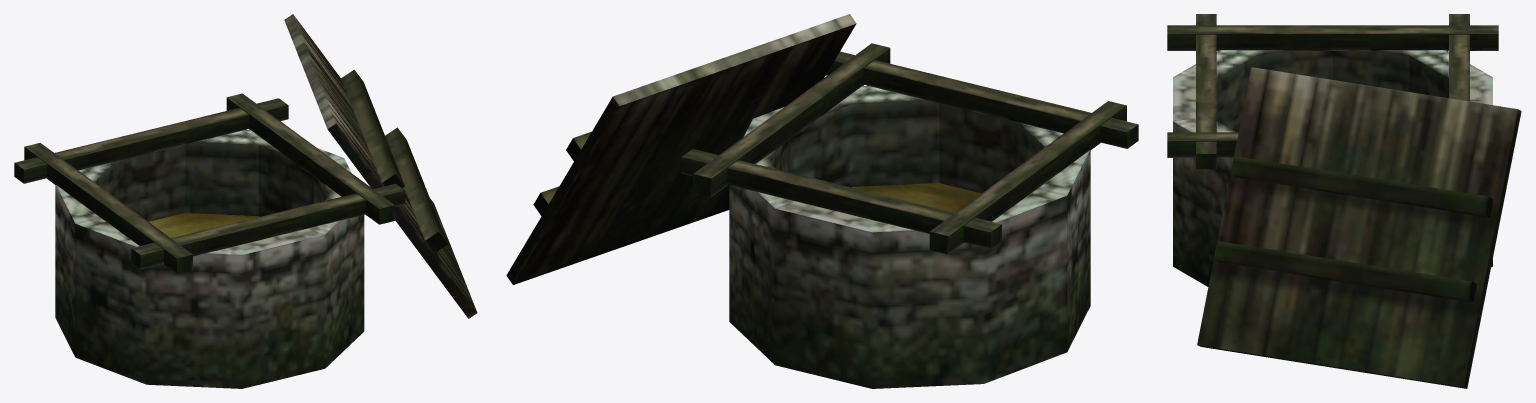
3 views of the same model, side by side, from view 1: azimuth 30°, elevation 25°; view 2: azimuth 150°, elevation 25°; view 3: azimuth 270°, elevation 25° (orthographic). The views are drawn at different scales.
Parts seen in each view (by area): view 1: ob-10-01; view 2: ob-10-01; view 3: ob-10-01.
Boxes of the visible parts, x1,y1,x2,y2 form: ob-10-01: [14, 14, 477, 388]; ob-10-01: [506, 14, 1138, 388]; ob-10-01: [1167, 14, 1521, 388].
Bounding box in the file's own units: 3.56 × 1.68 × 2.4.
Materials: 1 (1 with a texture image).
